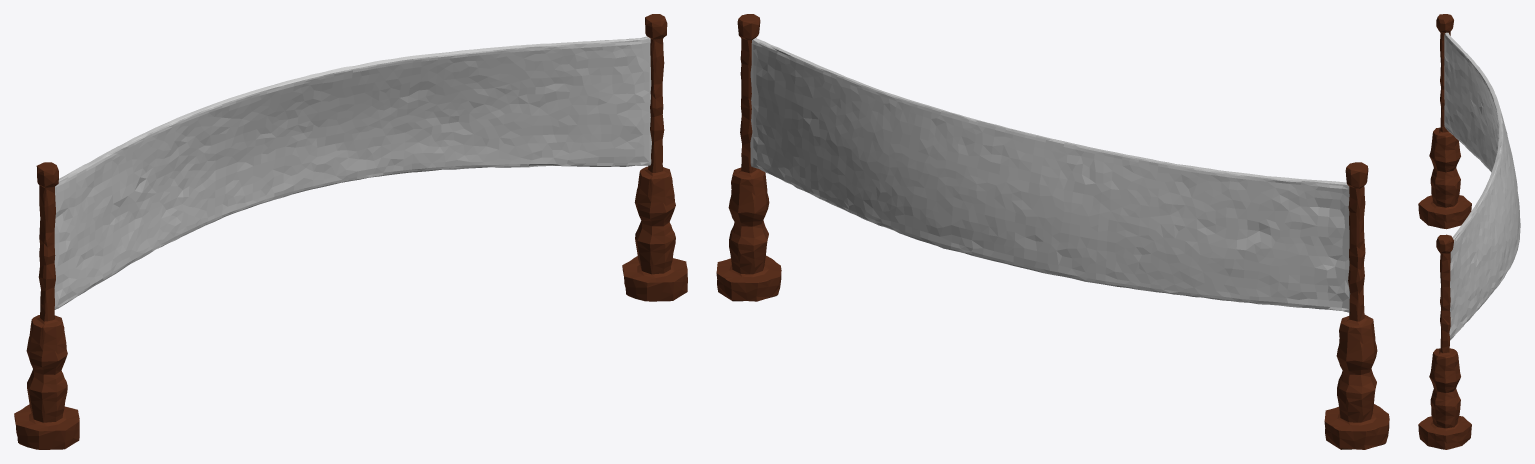
The model's file is DesertLandSnakeFlag0268.obj.
3 renders of one model, left to right at view 1: azimuth 30°, elevation 25°; view 2: azimuth 150°, elevation 25°; view 3: azimuth 270°, elevation 25°, orthographic. The views are drawn at different scales.
Parts seen in each view (by area): view 1: Cube.003, Cube, Cube.002; view 2: Cube.003, Cube, Cube.002; view 3: Cube.003, Cube.002, Cube.
Boxes of the visible parts, left/top/right/bottom form: Cube.003: left=54, top=36, right=651, bottom=309; Cube: left=14, top=162, right=79, bottom=449; Cube.002: left=622, top=14, right=687, bottom=301; Cube.003: left=750, top=38, right=1350, bottom=312; Cube: left=1324, top=162, right=1389, bottom=449; Cube.002: left=716, top=14, right=781, bottom=301; Cube.003: left=1444, top=32, right=1520, bottom=340; Cube.002: left=1418, top=234, right=1471, bottom=449; Cube: left=1418, top=14, right=1471, bottom=229.
Size of the model in its own units: 27.57 by 10.7 by 4.89.
